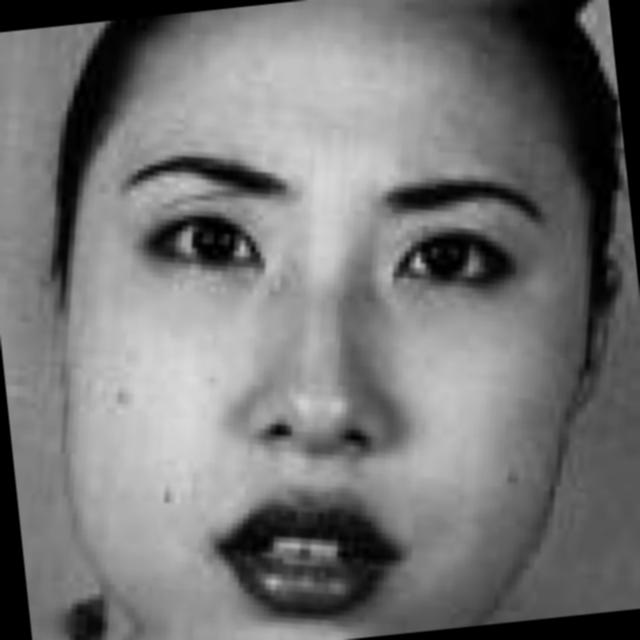fear: (49, 23, 590, 640)
